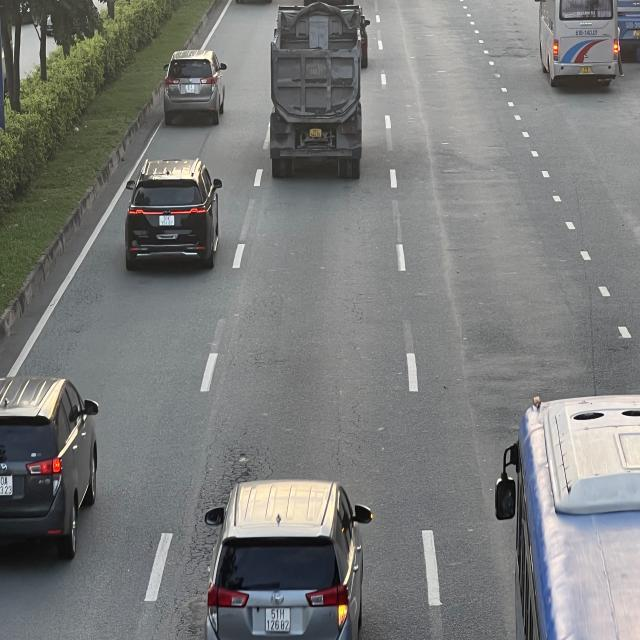car: (204, 480, 371, 640), (0, 374, 100, 557), (127, 158, 226, 270), (164, 48, 229, 125)
coach: (497, 393, 640, 637), (534, 2, 620, 89)
container: (270, 0, 368, 176)
